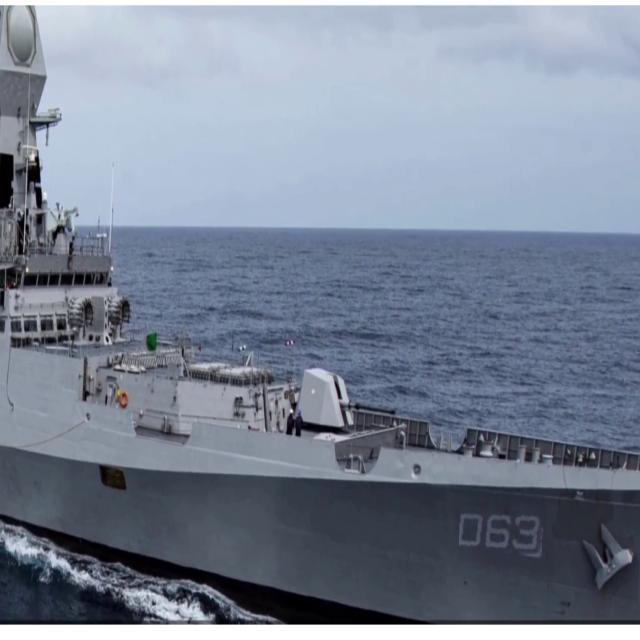OCR: (460, 506, 546, 562)
